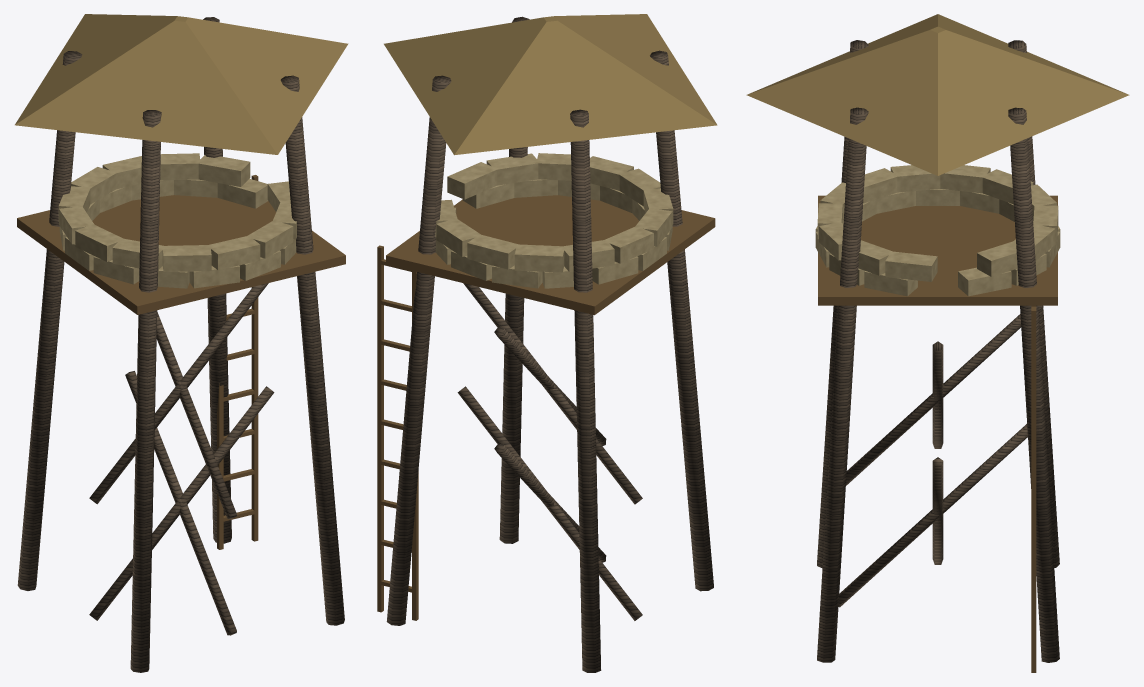
The model's file is watchtower.fbx.
3 renders of one model, left to right at view 1: azimuth 30°, elevation 25°; view 2: azimuth 150°, elevation 25°; view 3: azimuth 270°, elevation 25°, orthographic.
Parts seen in each view (by area): view 1: Tower; view 2: Tower; view 3: Tower.
Boxes of the visible parts, box(x1,y1,x2,y2) form: Tower: box(15, 14, 348, 672); Tower: box(377, 14, 717, 672); Tower: box(746, 14, 1129, 672).
Size of the model in its own units: 4.8 by 8.05 by 4.8.
